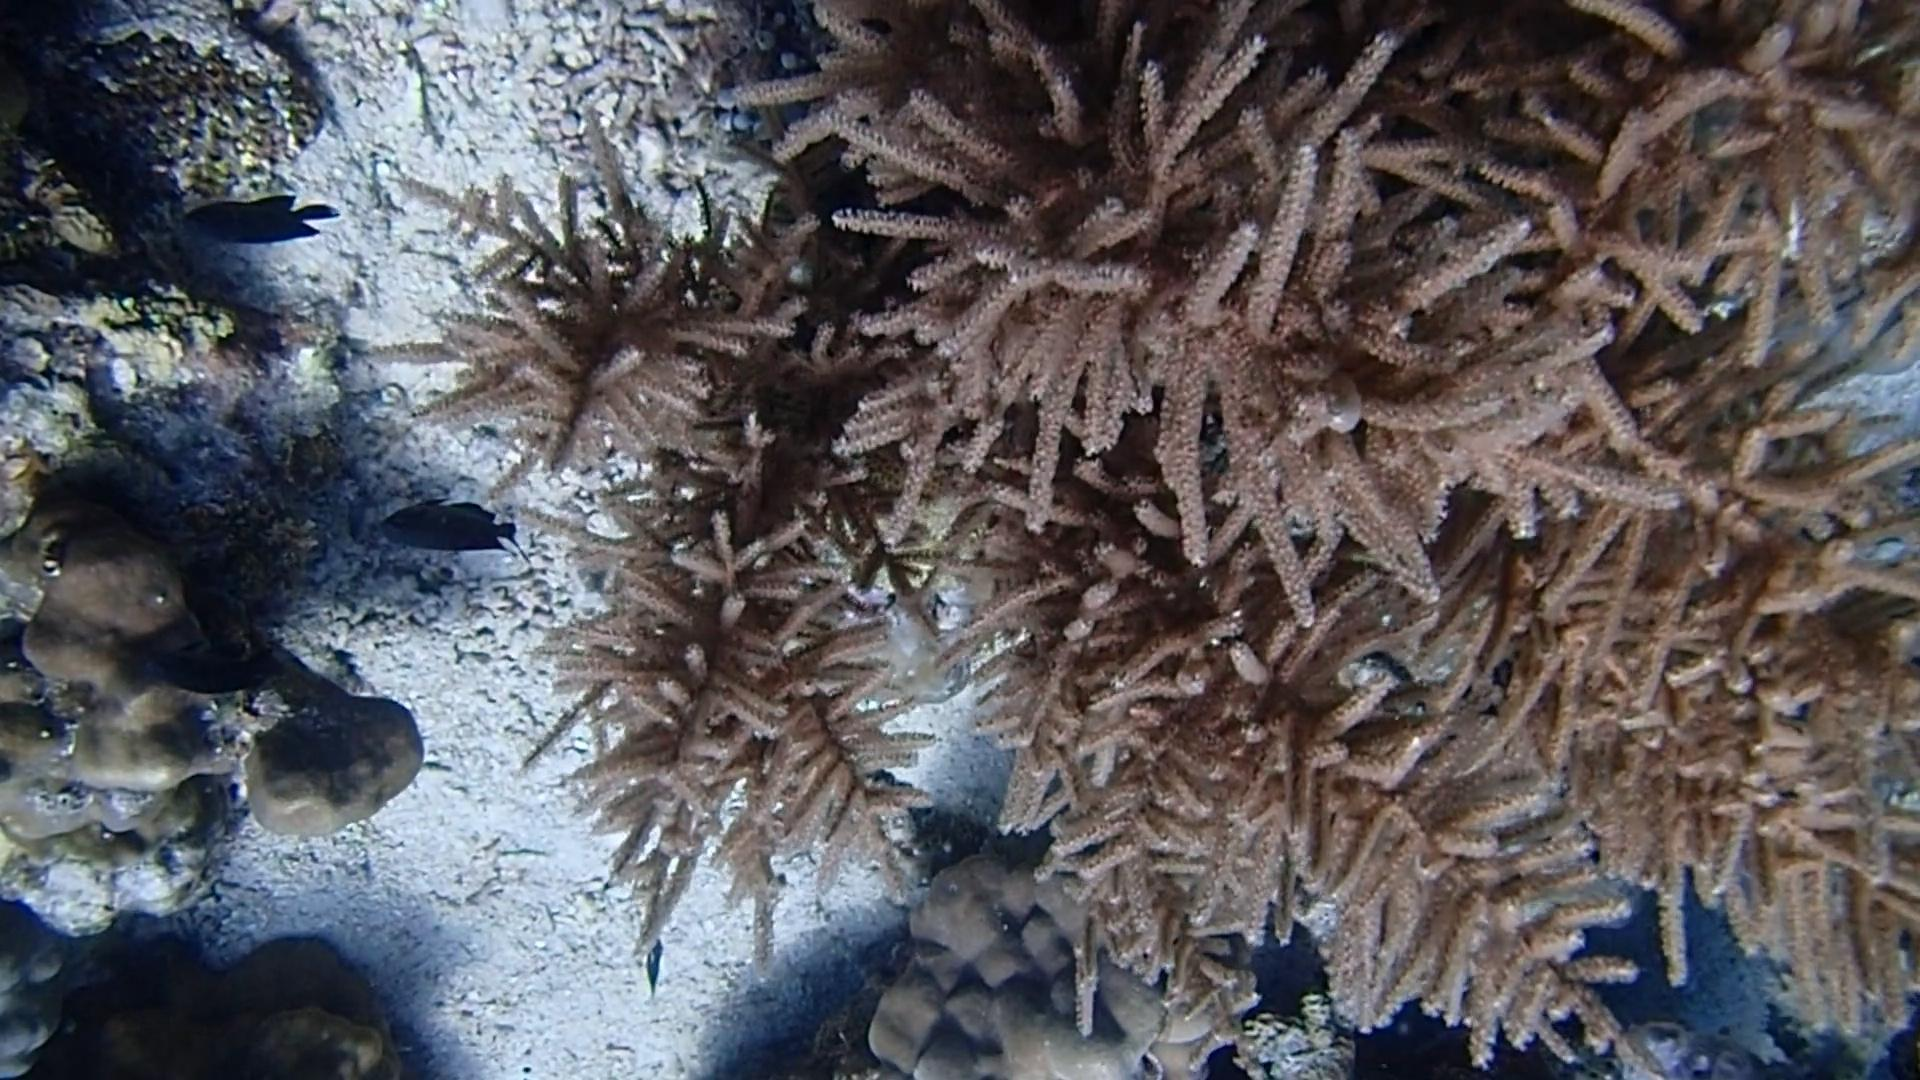Dark Fish: (136, 629, 294, 705), (174, 183, 348, 251), (373, 496, 530, 567)
Yellow Tail: (632, 922, 674, 1011)
